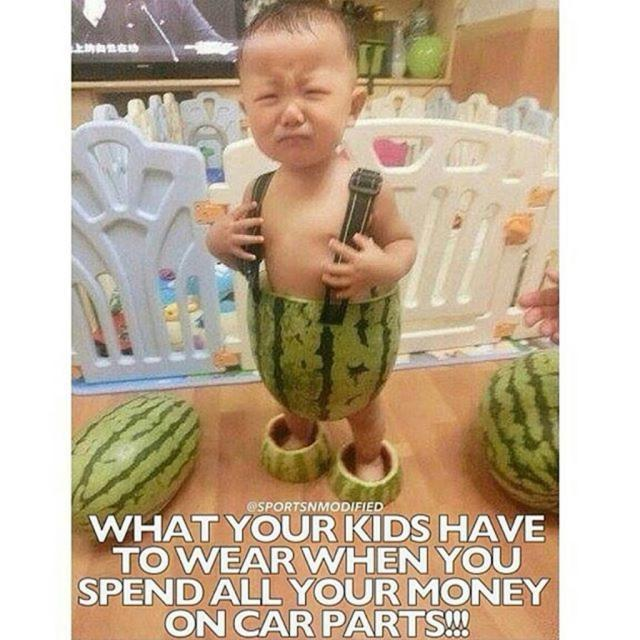Watermelon: (243, 272, 404, 424), (67, 390, 200, 538), (478, 349, 566, 513), (329, 437, 404, 507), (260, 412, 330, 483)
